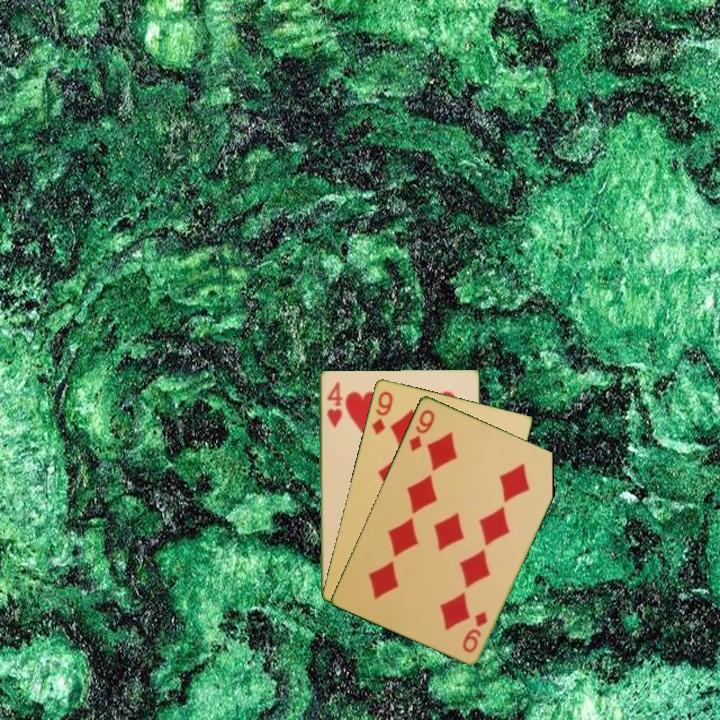4h: (323, 378, 344, 430)
9d: (405, 405, 438, 454), (459, 607, 490, 655), (368, 387, 396, 437)
